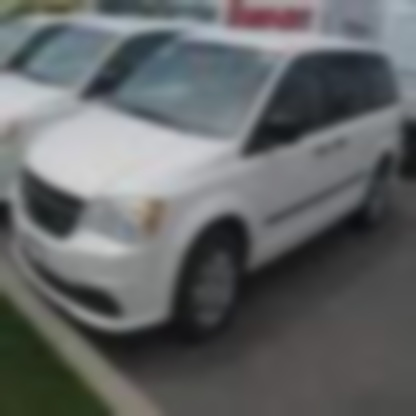Vehicle: (15, 29, 408, 336)
